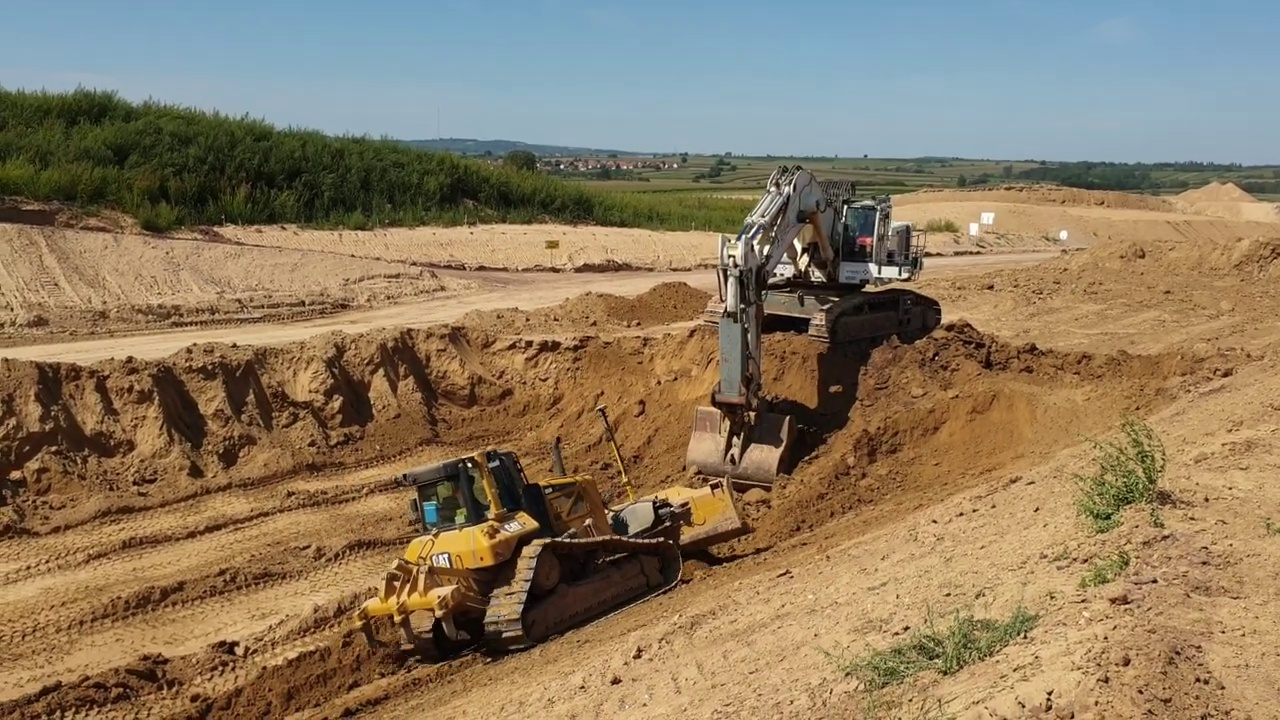bulldozer: (356, 402, 757, 665)
excavator: (684, 161, 945, 490)
